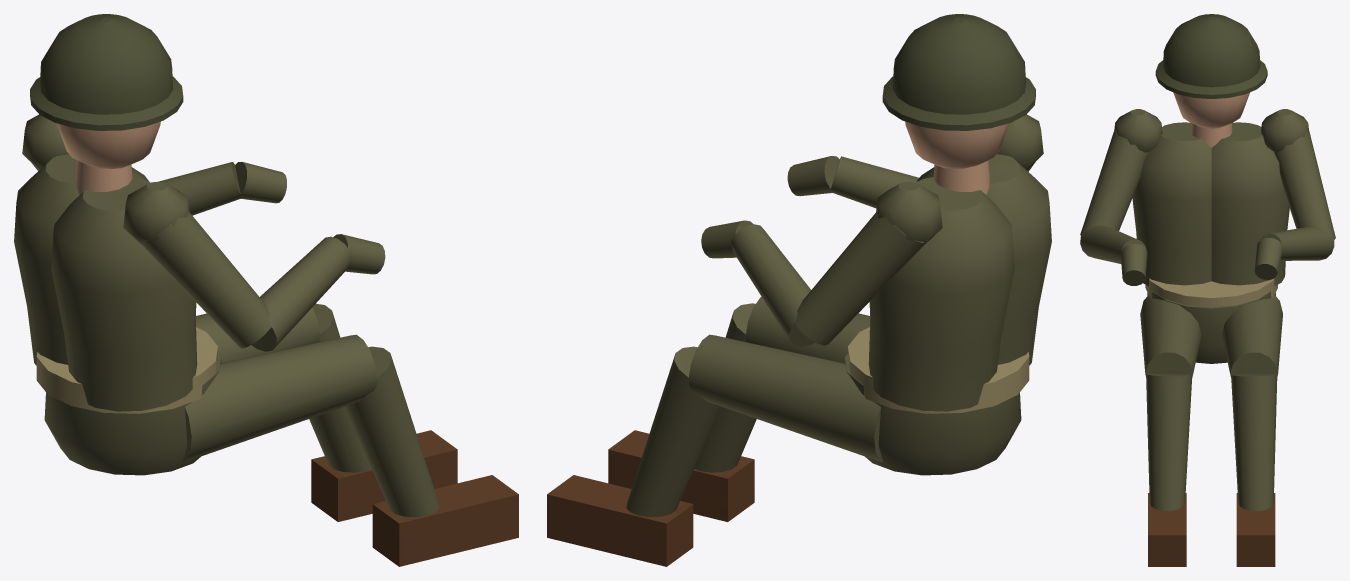
The model's file is us-army-driver.glb.
The picture shows the model from 3 angles, left to right: view 1: azimuth 30°, elevation 25°; view 2: azimuth 150°, elevation 25°; view 3: azimuth 270°, elevation 25°; orthographic projection. The views are drawn at different scales.
Visible parts, largest first — view 1: Driver, ArmR, ArmL; view 2: Driver, ArmL, ArmR; view 3: Driver, ArmL, ArmR.
Part boxes in pixels (box(x1,y1,x2,y2)): Driver: box(14, 14, 518, 566); ArmR: box(140, 211, 385, 351); ArmL: box(32, 162, 286, 215); Driver: box(547, 14, 1051, 566); ArmL: box(701, 212, 927, 346); ArmR: box(787, 156, 1035, 208); Driver: box(1114, 14, 1309, 566); ArmL: box(1254, 131, 1335, 279); ArmR: box(1080, 130, 1148, 285).
Bounding box in the file's own units: 0.945 × 1.19 × 0.662.
Materials: 1 (1 with a texture image).
